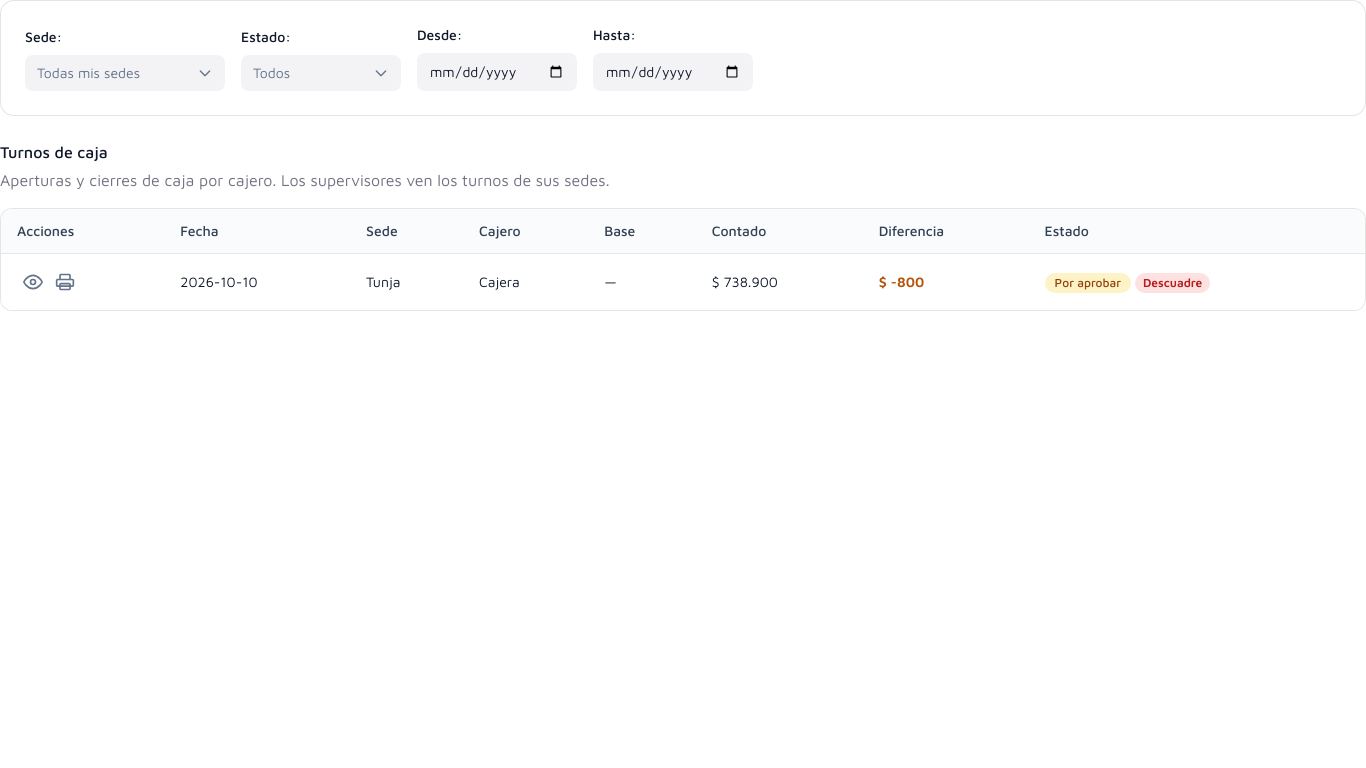
TurnosCajaView › no ofrece aprobar el cierre propio
The image size is (1366, 768).
Click the button titled "Ver detalle" at (33, 282), box [17,266,49,298]
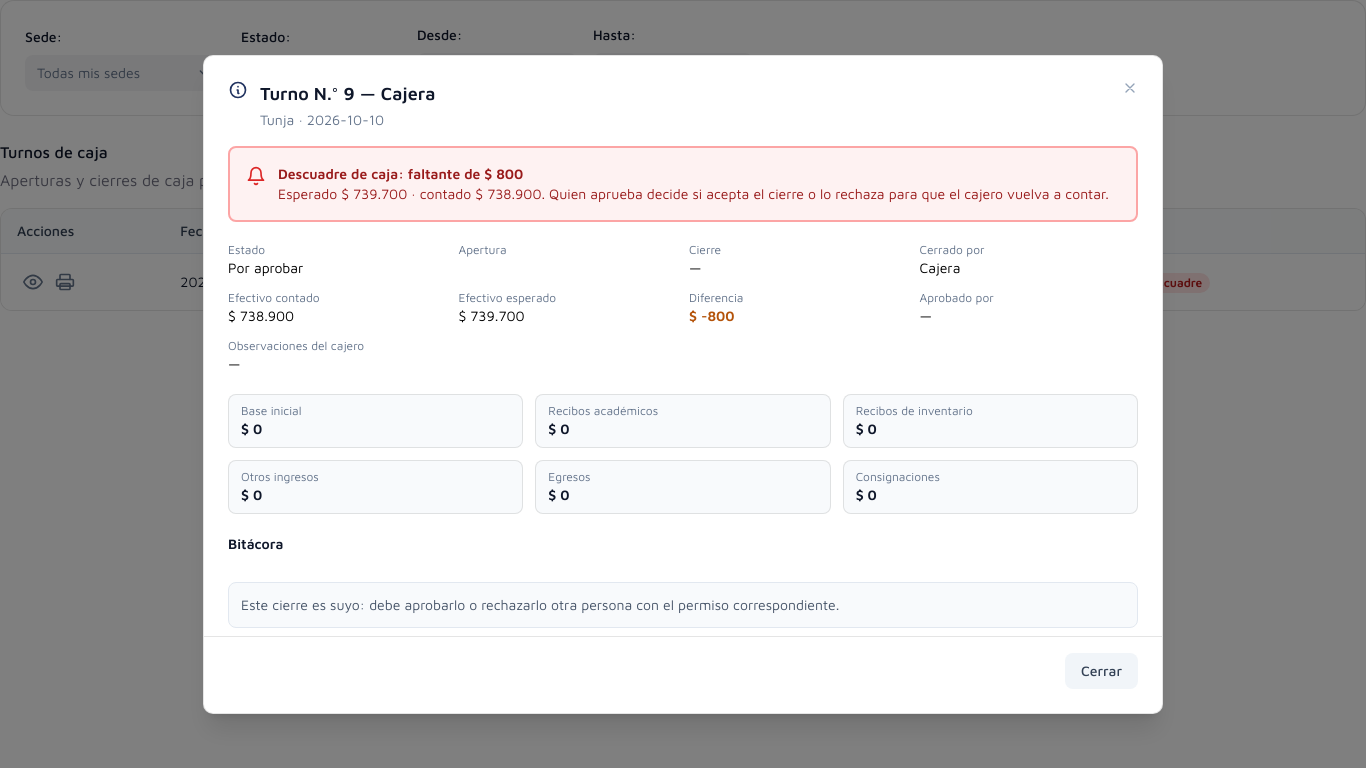
Check: the text "Este cierre es suyo" is shown, box [241,596,839,612]
